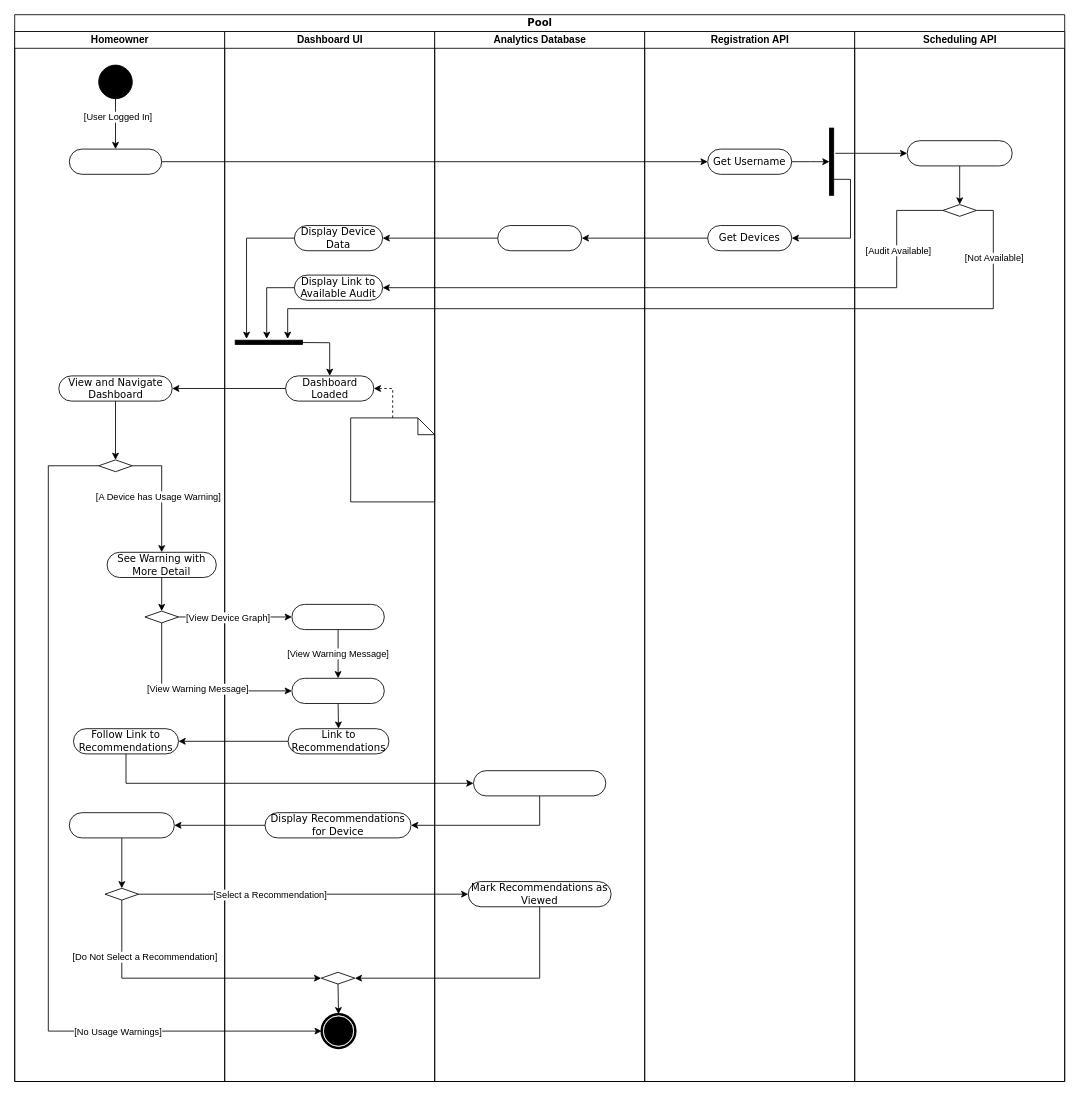
Image size: 1079x1096. Some labels were removed from this diagram. The shapes that lost their labels are listed below. From the top down, each one's centre as x and y in pixels, then its label:
At (x=115, y=161): "View Dashboard".
At (x=959, y=153): "Check if Audit is Available".
At (x=539, y=238): "Get Device Data".
At (x=392, y=459): "User can now navigate page, and interact with components".
At (x=337, y=617): "View Device Graph".
At (x=337, y=690): "View Warning".
At (x=539, y=783): "Get Recommendations for Device".
At (x=121, y=825): "View Recommendations".
